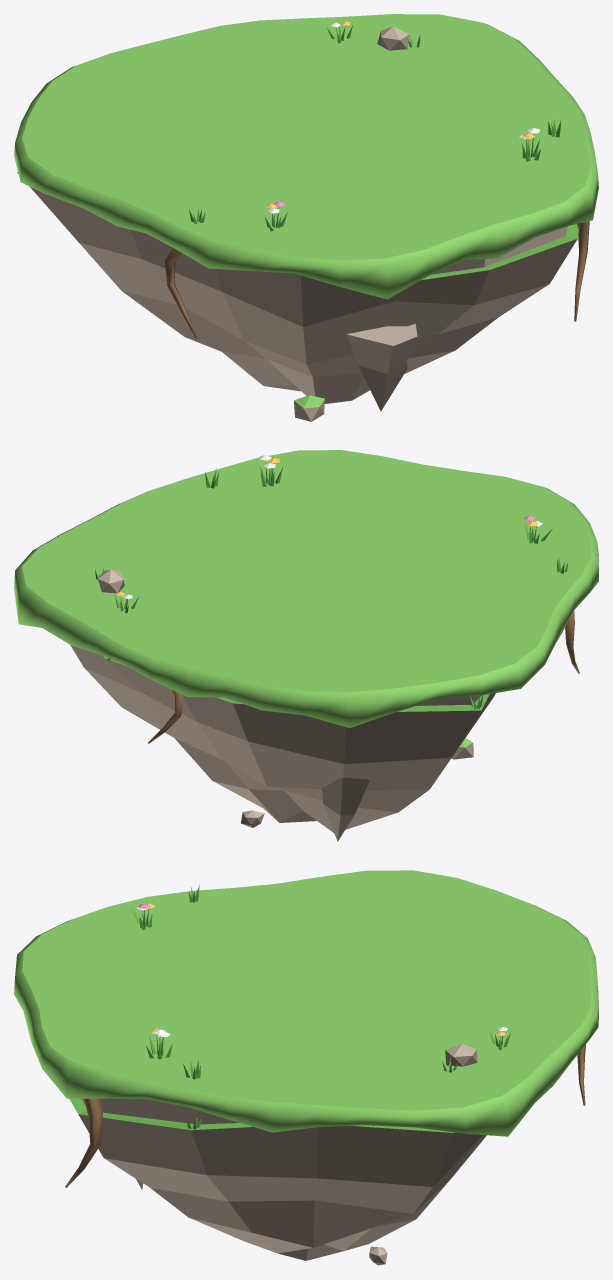
The model's file is island-a.glb.
The picture shows the model from 3 angles, top to bottom: view 1: azimuth 30°, elevation 25°; view 2: azimuth 150°, elevation 25°; view 3: azimuth 270°, elevation 25°; orthographic projection. The views are drawn at different scales.
Parts seen in each view (by area): view 1: island-a; view 2: island-a; view 3: island-a.
Boxes of the visible parts, box(x1,y1,x2,y2) form: island-a: box(14, 14, 598, 421); island-a: box(14, 450, 598, 841); island-a: box(14, 870, 598, 1265).
Bounding box in the file's own units: 24 × 13.31 × 24.
